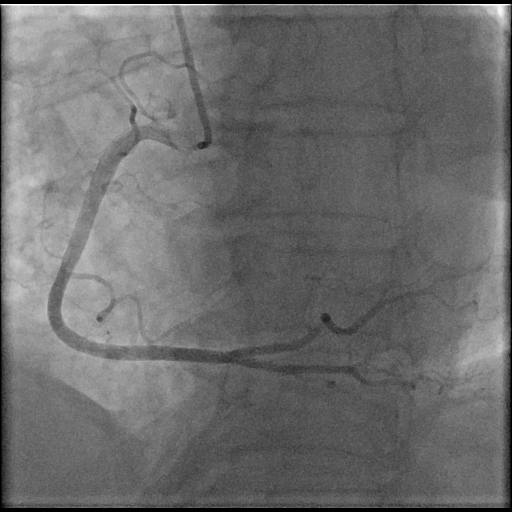RCA: (48, 122, 359, 376)
catherter: (173, 5, 211, 150)
